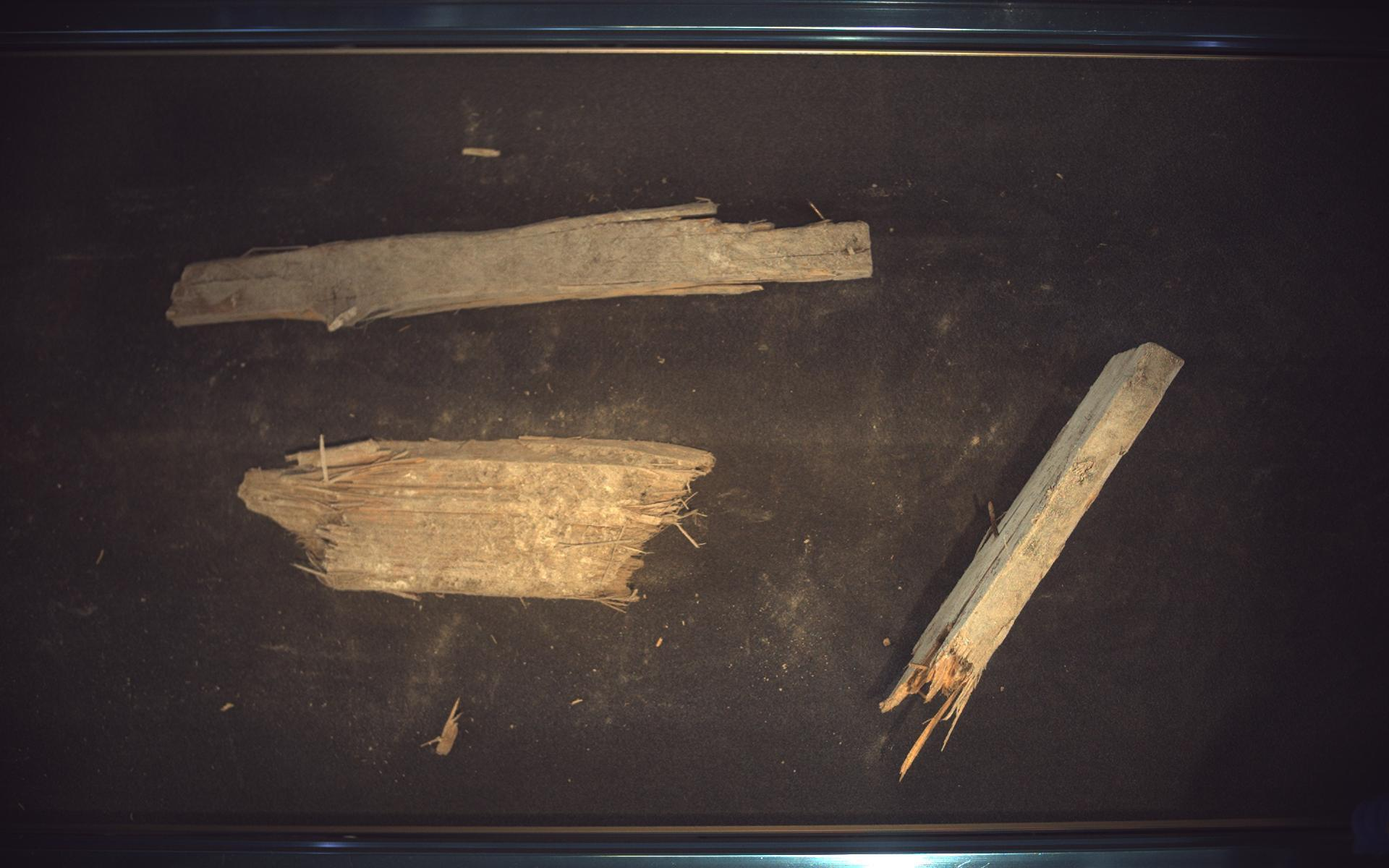wood: (883, 343, 1186, 779), (166, 200, 874, 331), (237, 436, 715, 610)
